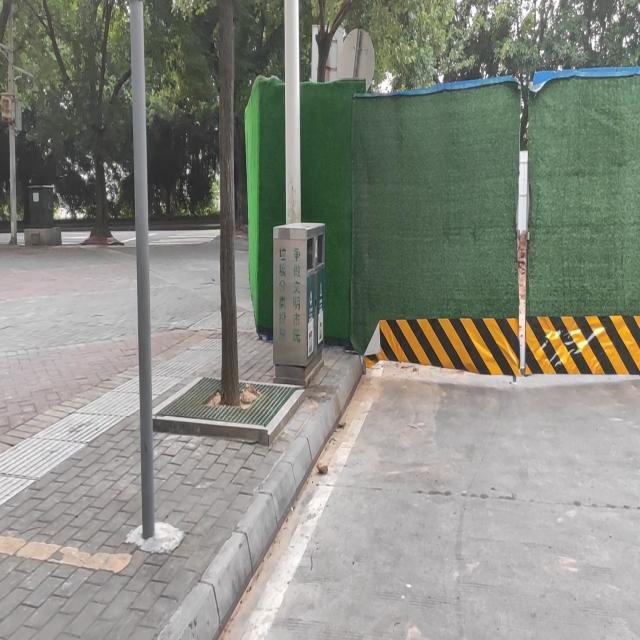ash bin: (269, 219, 326, 385)
pole: (128, 4, 154, 539), (278, 6, 306, 211), (4, 49, 21, 243)
